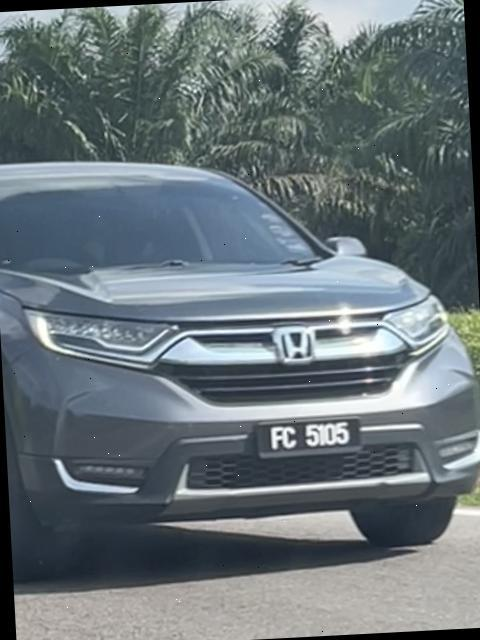FC5105: (254, 416, 365, 461)
License_Plate: (254, 416, 365, 461)
car: (1, 132, 480, 594)
